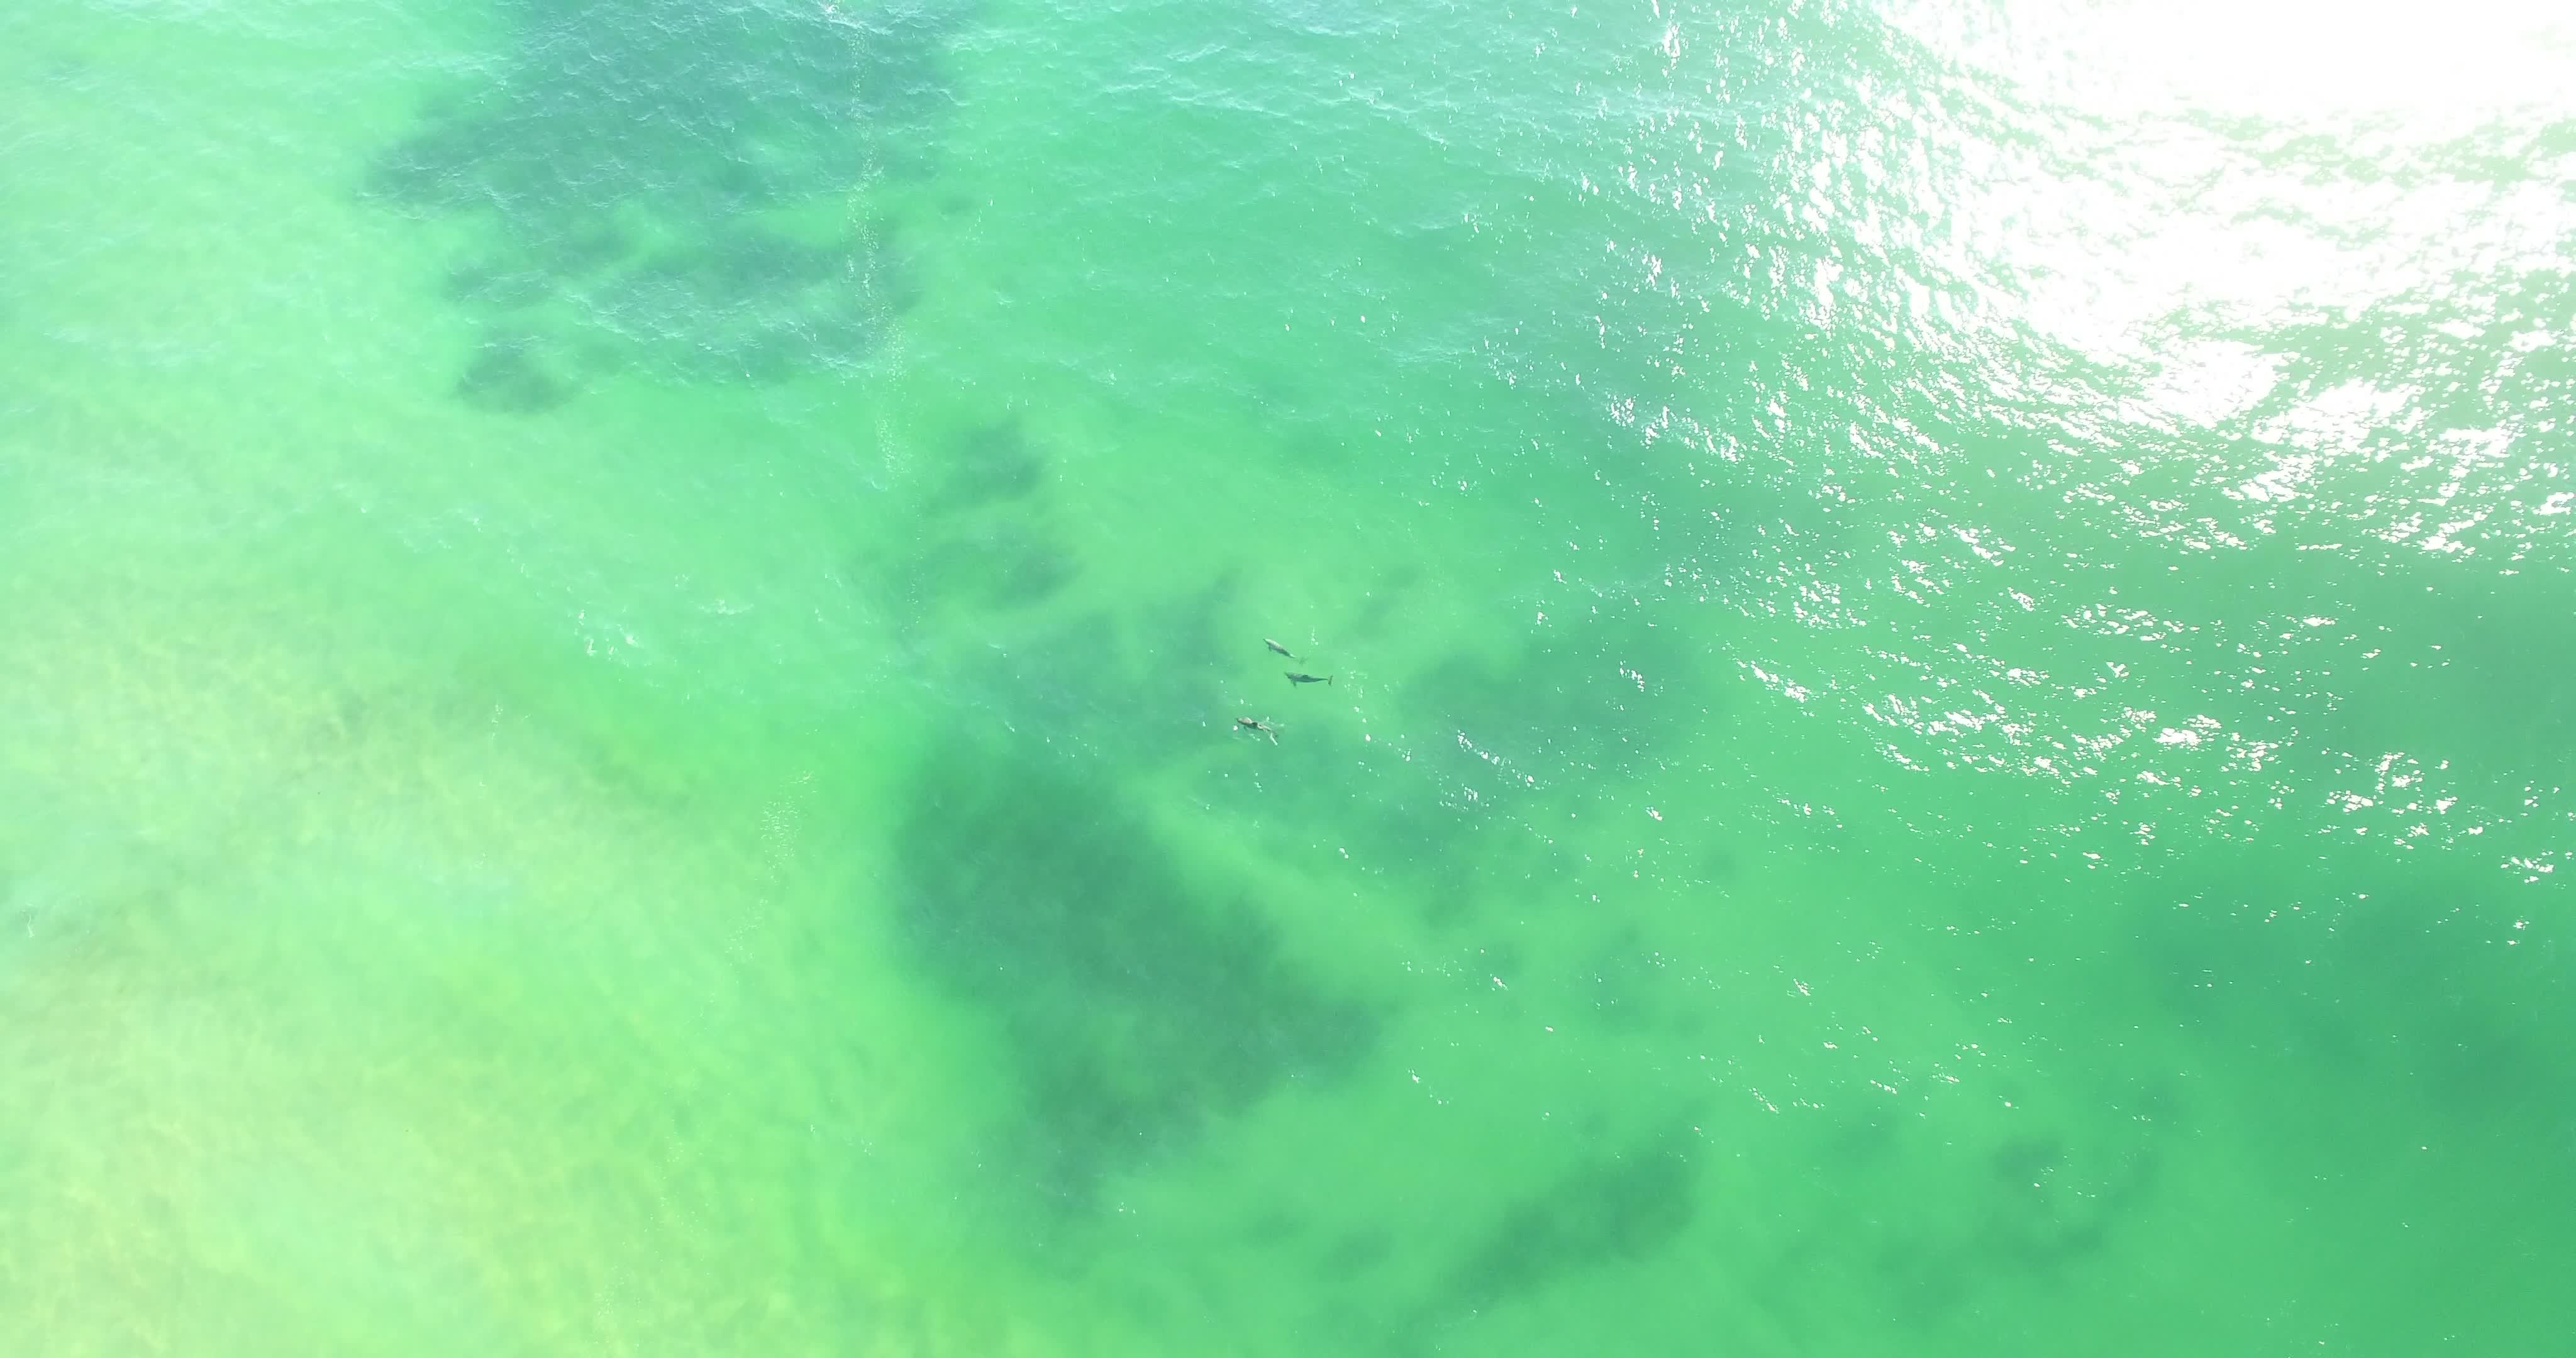dolphin: (1218, 704, 1288, 757), (1244, 625, 1315, 666), (1271, 661, 1346, 693)
